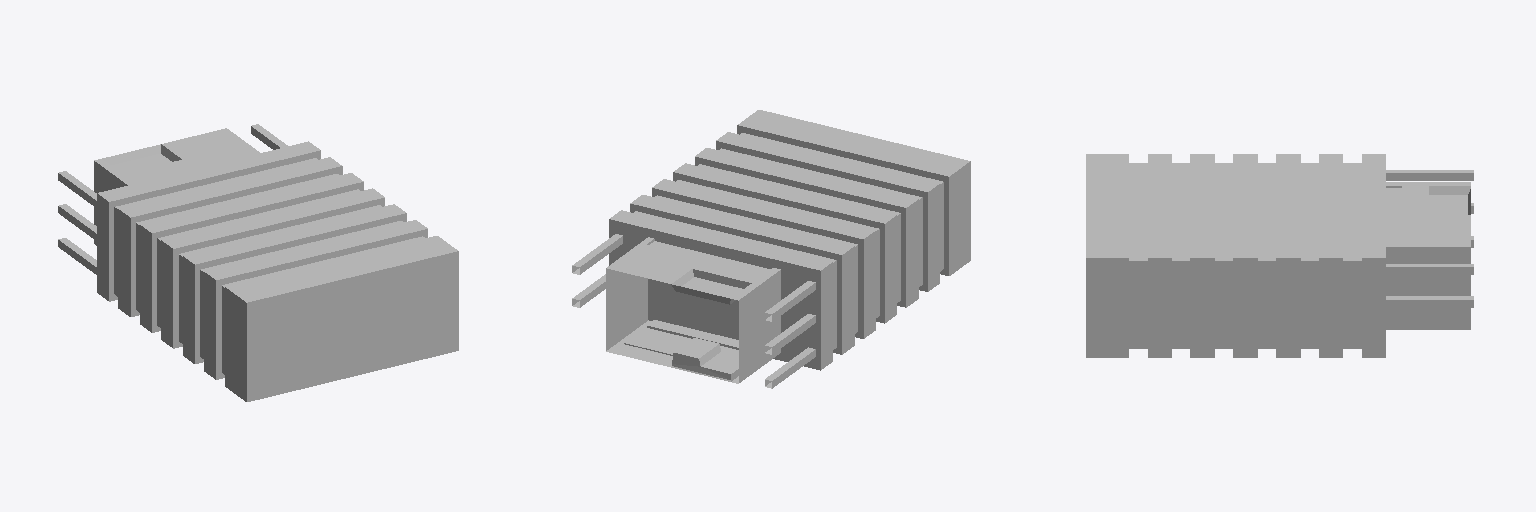
Rendered from building7.obj.
3 views of the same model, side by side, from view 1: azimuth 30°, elevation 25°; view 2: azimuth 150°, elevation 25°; view 3: azimuth 270°, elevation 25° (orthographic).
Visible parts, largest first — view 1: Building7_007; view 2: Building7_007; view 3: Building7_007.
Part boxes in pixels (x1,y1,x2,y2): Building7_007: (58,124,458,401); Building7_007: (572,110,970,388); Building7_007: (1086,154,1473,357).
Size of the model in its own units: 17.59 by 7.92 by 27.83.